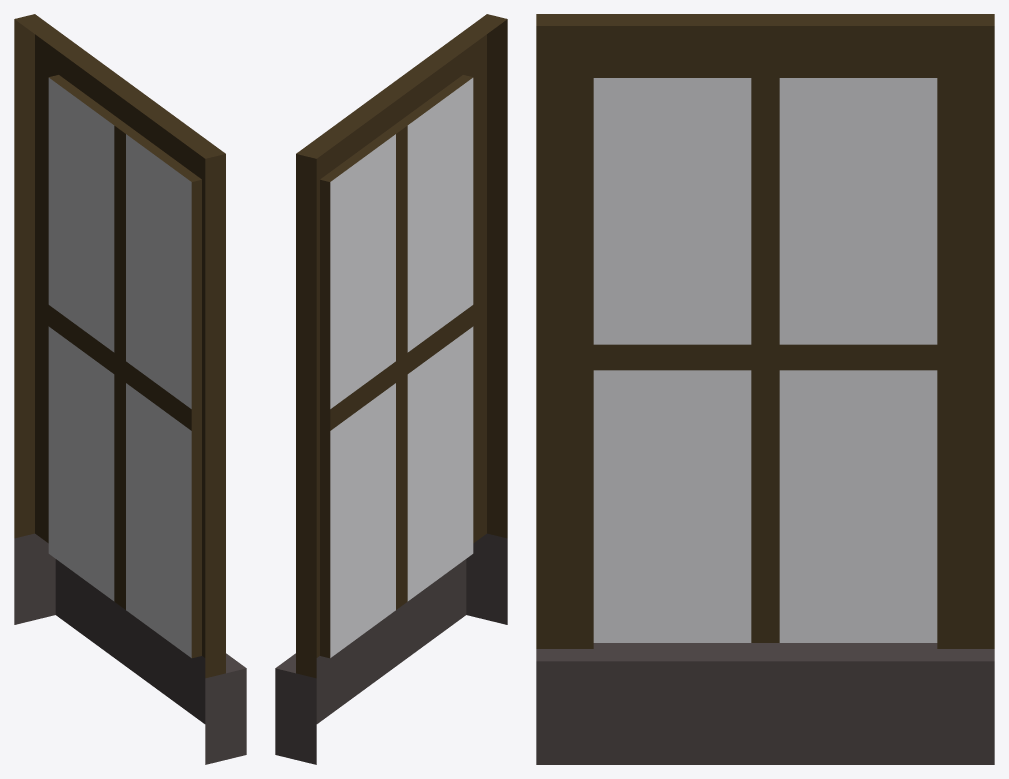
The model's file is model_loc_1821_q.obj.
3 renders of one model, left to right at view 1: azimuth 30°, elevation 25°; view 2: azimuth 150°, elevation 25°; view 3: azimuth 270°, elevation 25°, orthographic. The views are drawn at different scales.
Visible parts, largest first — view 1: 2032; view 2: 2032; view 3: 2032.
Part boxes in pixels (x1,y1,x2,y2): 2032: [14, 14, 246, 764]; 2032: [275, 14, 507, 764]; 2032: [536, 14, 994, 764].
Size of the model in its own units: 8 by 112 by 64.
